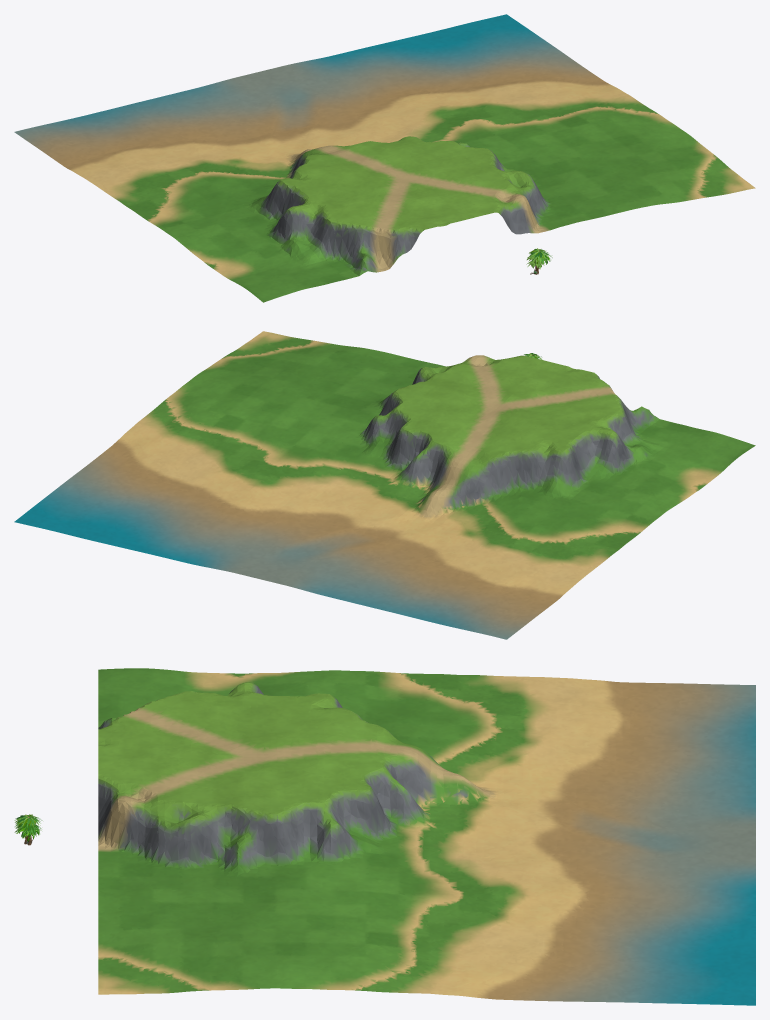
Rendered from island.glb.
The picture shows the model from 3 angles, top to bottom: view 1: azimuth 30°, elevation 25°; view 2: azimuth 150°, elevation 25°; view 3: azimuth 270°, elevation 25°; orthographic projection. The views are drawn at different scales.
Visible parts, largest first — view 1: terrain_0_1, terrainlo_0_1, terrain_1_0, terrain_0_0, terrainlo_1_0, terrain_1_1, terrainlo_1_1, terrainlo_0_0; view 2: terrain_0_1, terrainlo_0_1, terrain_0_0, terrain_1_0, terrainlo_0_0, terrainlo_1_0, terrainlo_1_1, terrain_1_1; view 3: terrainlo_1_1, terrain_1_1, terrain_0_0, terrain_1_0, terrainlo_1_0, terrainlo_0_0, terrain_0_1, terrainlo_0_1.
Boxes of the visible parts, box(x1,y1,x2,y2) form: terrain_0_1: box(139, 137, 507, 302); terrainlo_0_1: box(138, 138, 502, 300); terrain_1_0: box(261, 15, 629, 142); terrain_0_0: box(15, 71, 363, 213); terrainlo_1_0: box(277, 14, 625, 142); terrain_1_1: box(407, 97, 755, 234); terrainlo_1_1: box(405, 95, 753, 234); terrainlo_0_0: box(14, 78, 361, 212); terrain_0_1: box(386, 355, 755, 539); terrainlo_0_1: box(386, 356, 753, 540); terrain_0_0: box(260, 475, 629, 639); terrain_1_0: box(16, 423, 381, 578); terrainlo_0_0: box(277, 479, 629, 639); terrainlo_1_0: box(14, 422, 385, 573); terrainlo_1_1: box(138, 331, 503, 481); terrain_1_1: box(140, 331, 500, 478); terrainlo_1_1: box(98, 782, 431, 994); terrain_1_1: box(98, 783, 427, 994); terrain_0_0: box(426, 674, 755, 843); terrain_1_0: box(426, 833, 755, 1005); terrainlo_1_0: box(429, 831, 755, 1005); terrainlo_0_0: box(429, 674, 755, 842); terrain_0_1: box(98, 668, 427, 832); terrainlo_0_1: box(98, 668, 431, 830).
Bounding box in the file's own units: 222 × 20.79 × 219.
